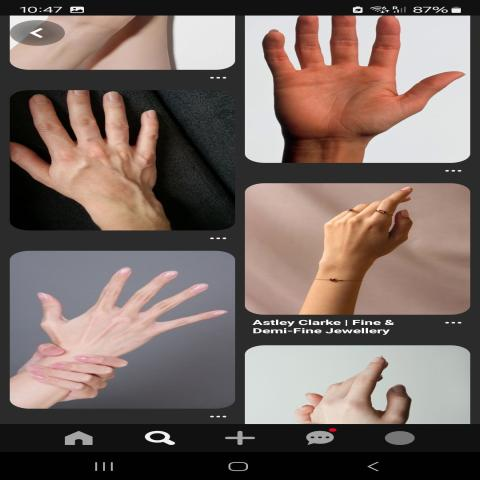hands: (258, 16, 470, 152), (20, 90, 198, 226), (29, 259, 228, 377), (296, 182, 446, 305)
